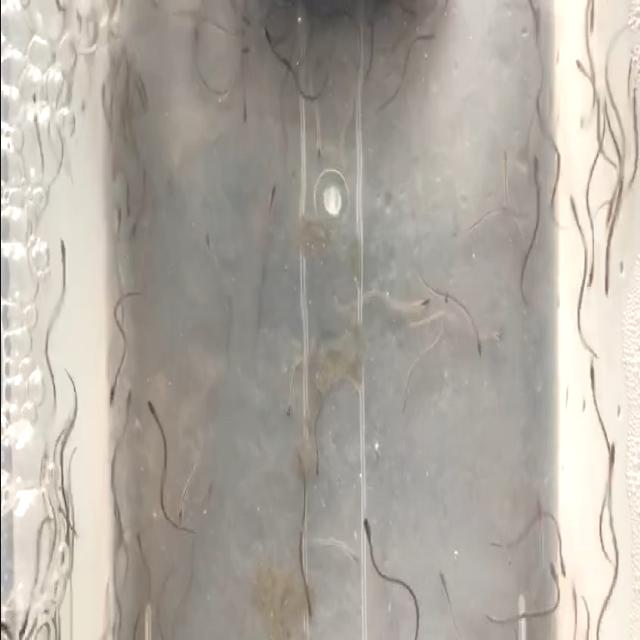active_glass_eel: (283, 380, 301, 442), (482, 136, 514, 168), (584, 354, 606, 398), (472, 322, 492, 369), (296, 590, 321, 627), (305, 119, 327, 159), (356, 506, 376, 548), (129, 220, 149, 260), (522, 154, 546, 186), (433, 552, 447, 604), (538, 552, 556, 590), (563, 179, 581, 214), (439, 280, 454, 322), (235, 94, 252, 130), (262, 20, 277, 54), (490, 322, 510, 347), (566, 47, 582, 77), (262, 174, 278, 204), (134, 522, 148, 556), (525, 6, 543, 32), (230, 13, 247, 40), (418, 278, 430, 316), (603, 265, 615, 303), (604, 440, 618, 472), (312, 451, 324, 485), (102, 379, 116, 408), (122, 378, 132, 418), (554, 551, 568, 579), (58, 242, 72, 270), (147, 396, 159, 426), (586, 260, 594, 292), (242, 42, 254, 61)
